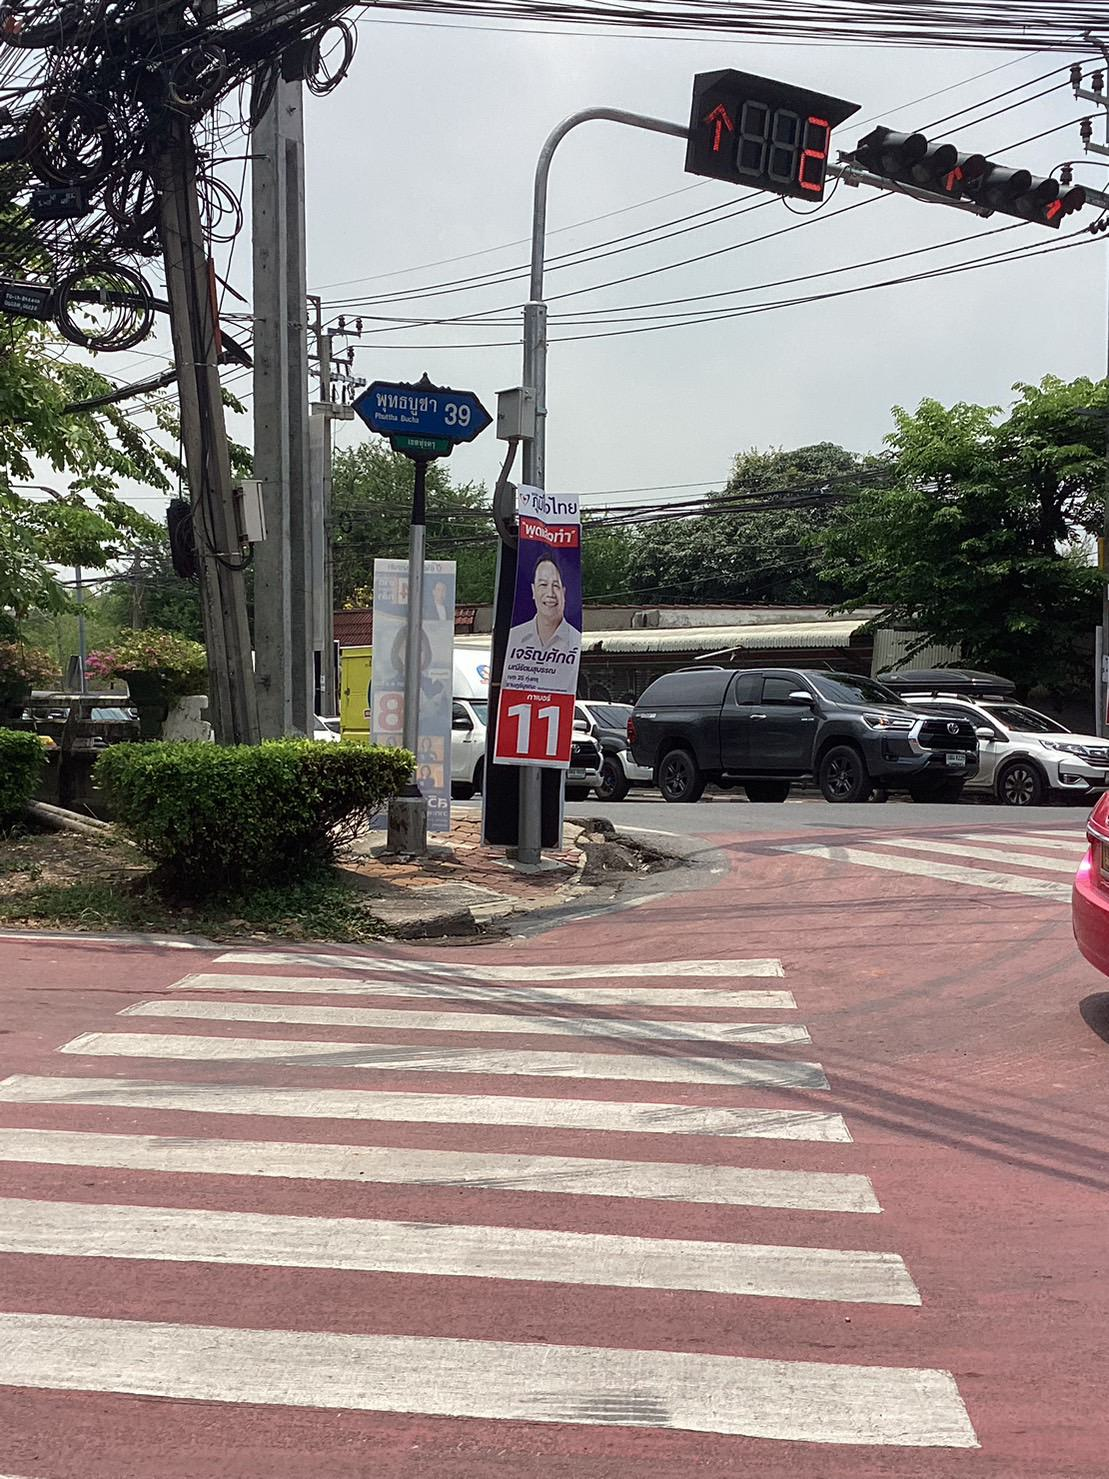Banner: (490, 487, 577, 762)
